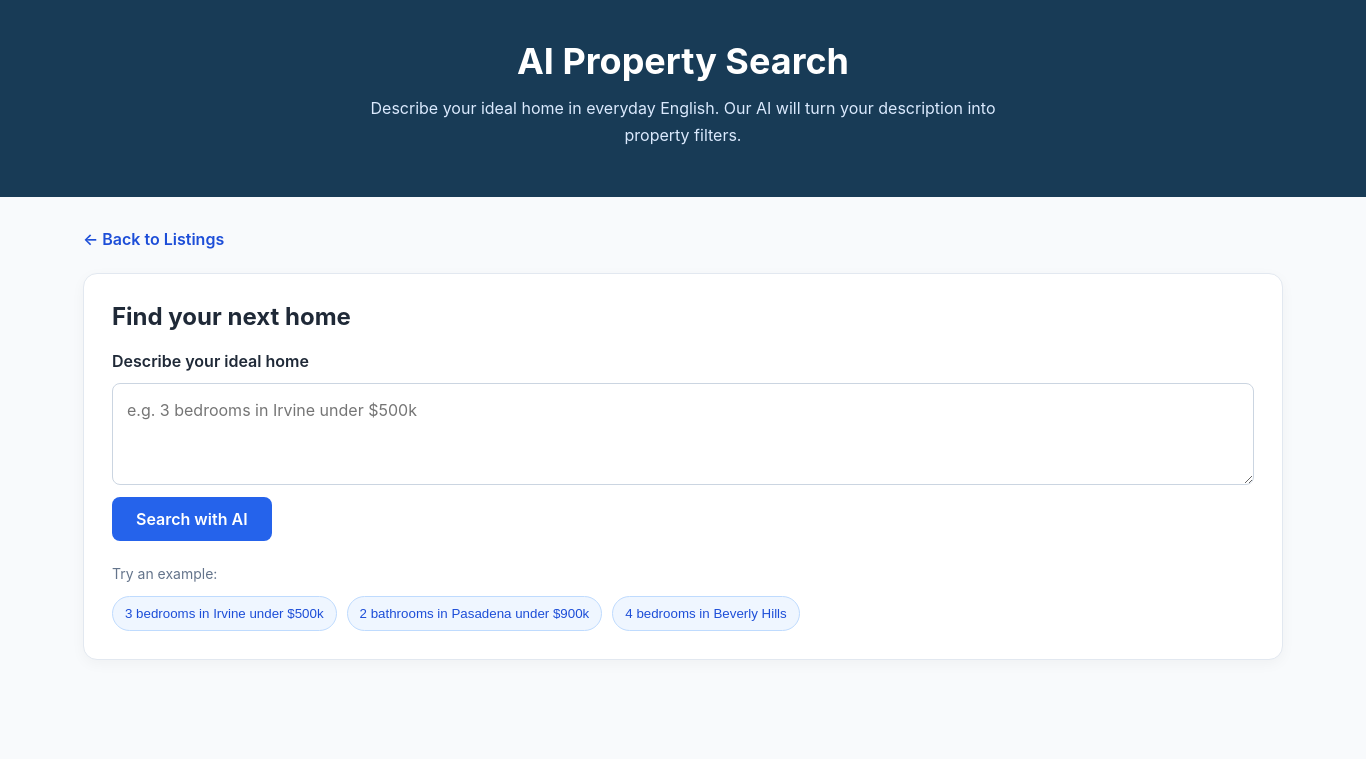
Test case: NaturalSearchPage › displays a helpful no-results message
The width and height of the screenshot is (1366, 759).
Step 1. Type "homes in Irvine" into the text box labelled "Describe your ideal home" → [683, 434], box [112,383,1254,485]
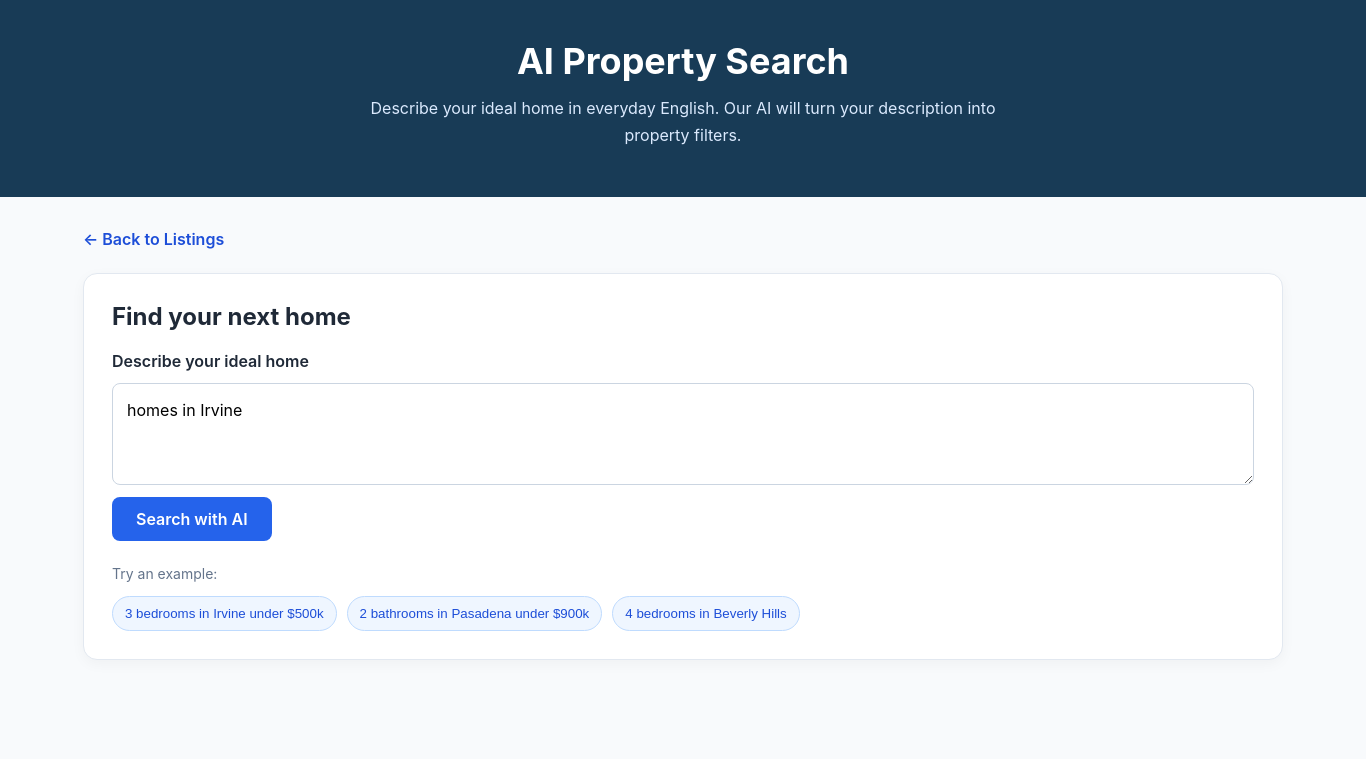
Step 2. Click the button "Search with AI" → [192, 519], box [112,497,272,541]
(page scrolled)
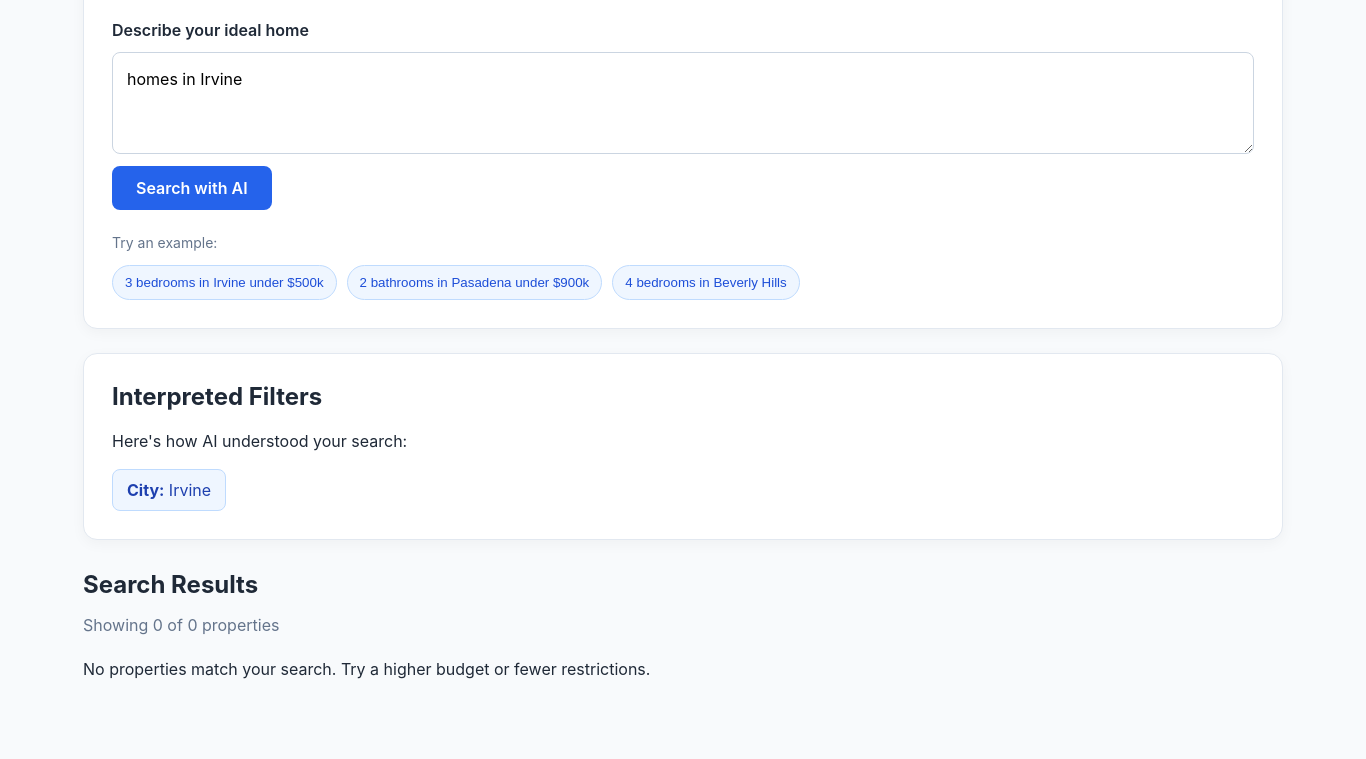
Now the text "No properties match your search. Try a higher budget or fewer restrictions." is shown, box [83,659,650,679]
